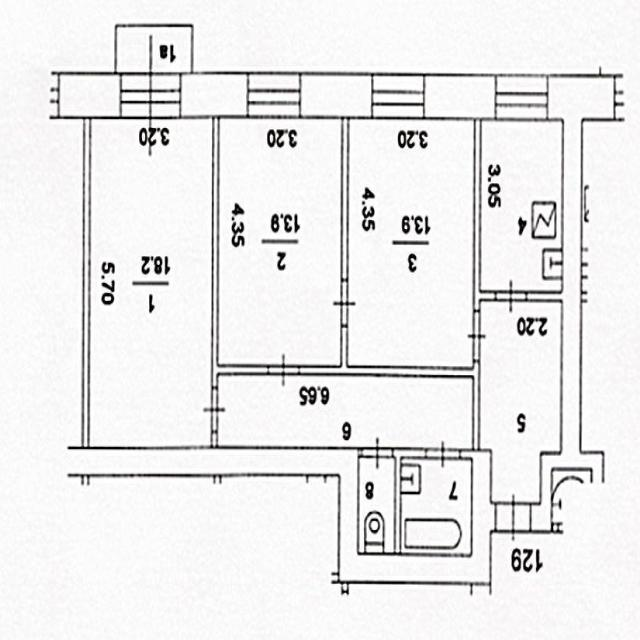Bathrooms: (402, 459, 470, 553), (360, 460, 394, 552)
Corridors: (220, 378, 473, 446), (481, 301, 561, 501), (483, 121, 561, 288), (117, 26, 191, 71)
Doors: (120, 33, 180, 158), (495, 491, 532, 543), (496, 276, 528, 314), (332, 279, 357, 327), (268, 352, 301, 388), (360, 436, 393, 471), (466, 309, 488, 361), (426, 437, 460, 469), (203, 387, 225, 432)
LBwalls: (301, 72, 372, 118), (425, 74, 495, 120), (548, 74, 613, 122), (59, 71, 121, 119), (181, 74, 248, 116)
Offices: (90, 118, 211, 447), (350, 120, 471, 365), (220, 119, 339, 364)
Walls: (67, 119, 495, 585), (528, 123, 605, 534), (211, 116, 268, 386), (473, 119, 496, 309), (341, 119, 349, 279)
Windows: (495, 73, 548, 121), (371, 74, 425, 119), (248, 72, 301, 117), (613, 74, 625, 121), (50, 71, 59, 120)
